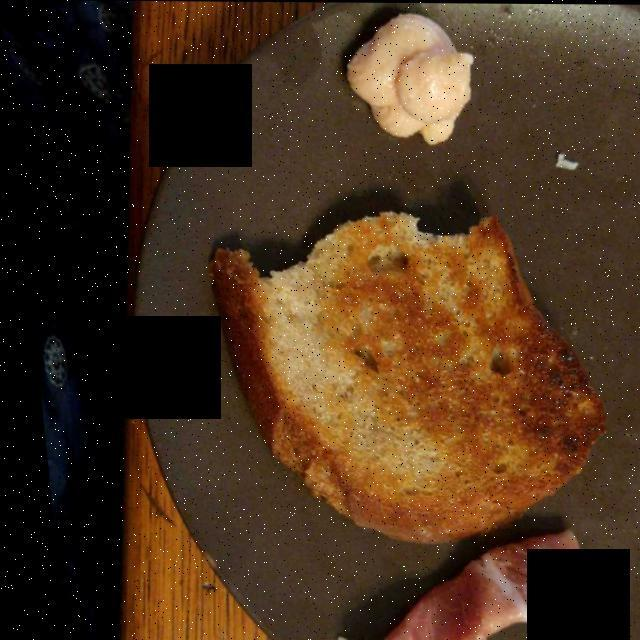bread: (209, 217, 594, 541)
ham: (380, 528, 595, 626)
